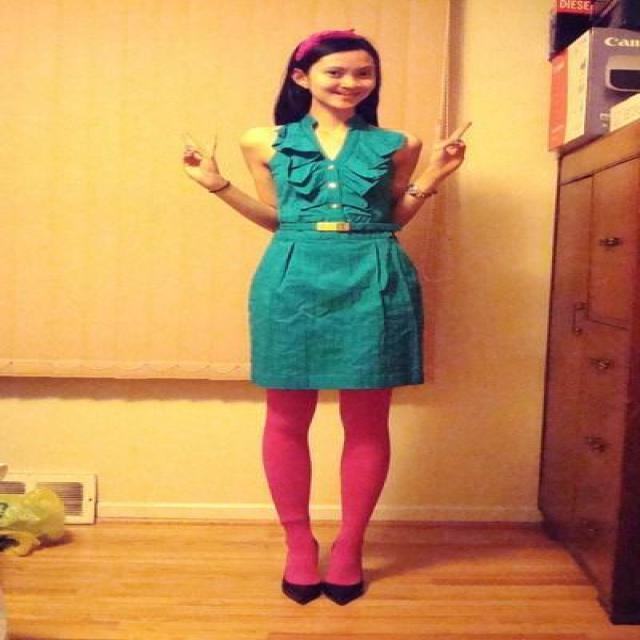dress: (248, 116, 422, 390)
shoe: (288, 580, 366, 601)
